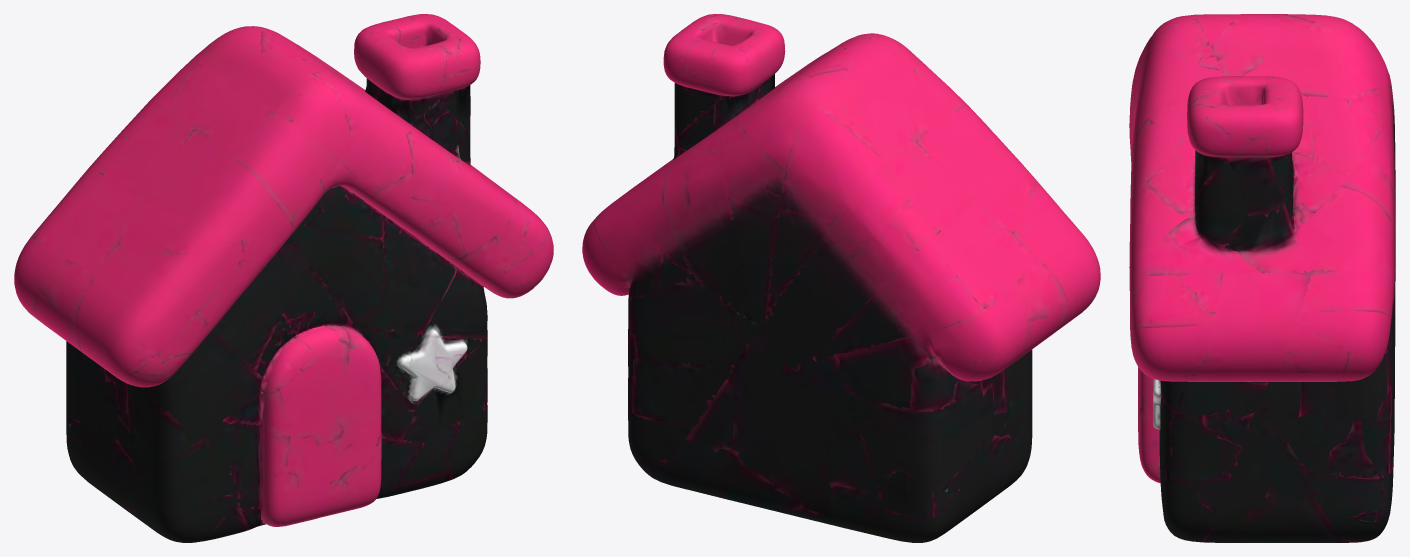
The model's file is poplur_cube_home.glb.
The picture shows the model from 3 angles, left to right: view 1: azimuth 30°, elevation 25°; view 2: azimuth 150°, elevation 25°; view 3: azimuth 270°, elevation 25°; orthographic projection. The views are drawn at different scales.
Visible parts, largest first — view 1: mesh_node; view 2: mesh_node; view 3: mesh_node.
Boxes of the visible parts, x1=… form: mesh_node: x1=14, y1=14, x2=553, y2=542; mesh_node: x1=582, y1=14, x2=1100, y2=542; mesh_node: x1=1129, y1=14, x2=1395, y2=542.
Bounding box in the file's own units: 1.9 × 1.79 × 0.9487.
Materials: 1 (1 with a texture image).
